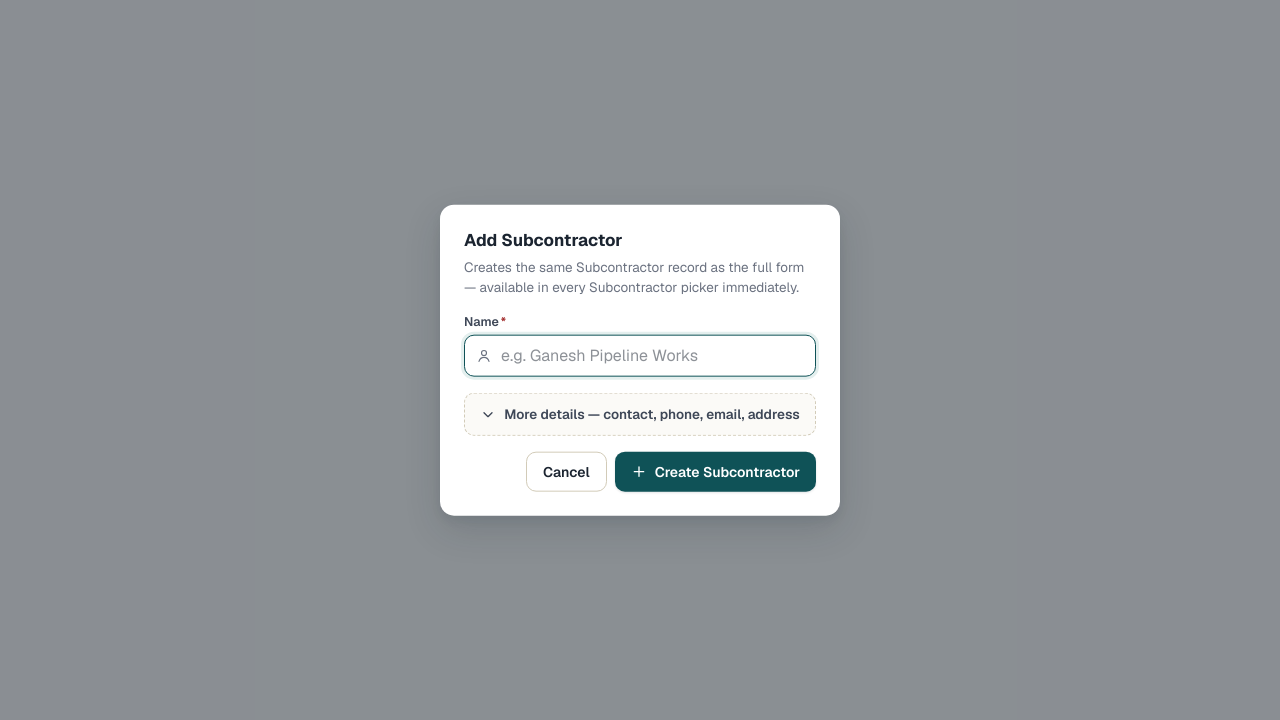
SubcontractorQuickCreateModal › surfaces a non-Owner/Admin 403 as the same formError the full form shows
The image size is (1280, 720).
Type "Ganesh Pipeline Works" into the field labelled "Name" at (640,356), box [464,335,816,377]
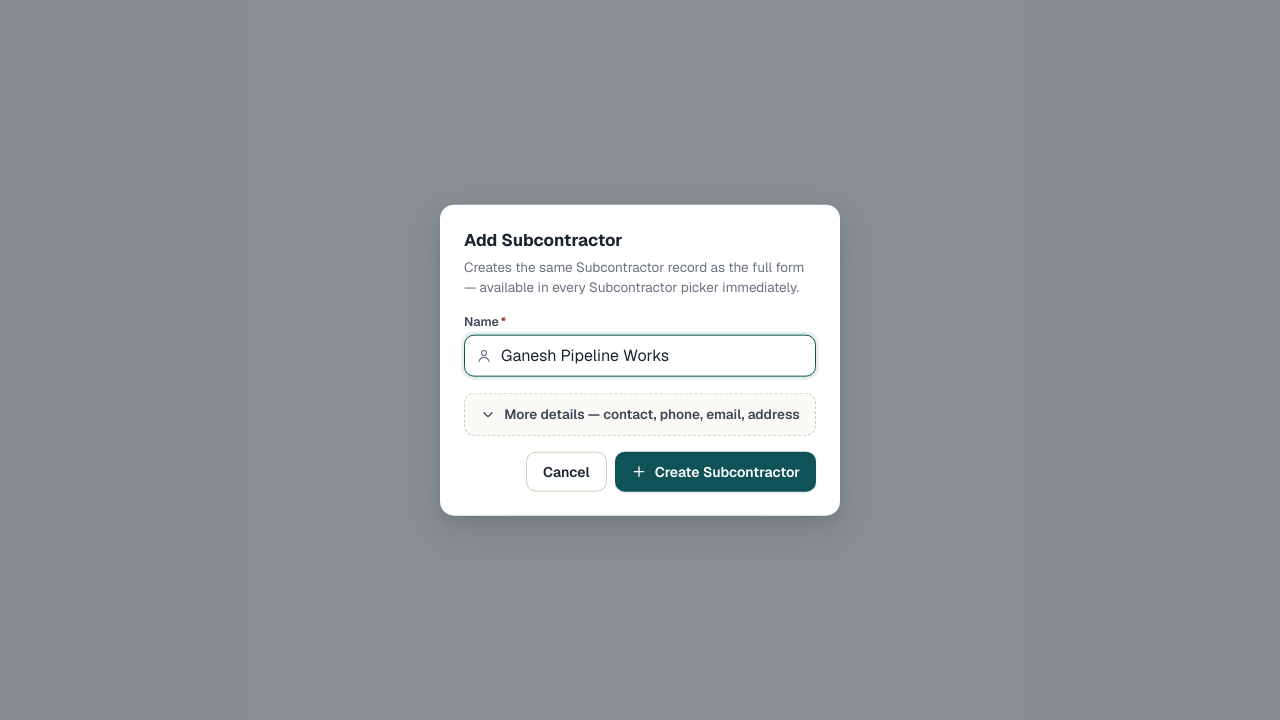
Click the button "Create Subcontractor" at (715,471), box [615,451,816,491]
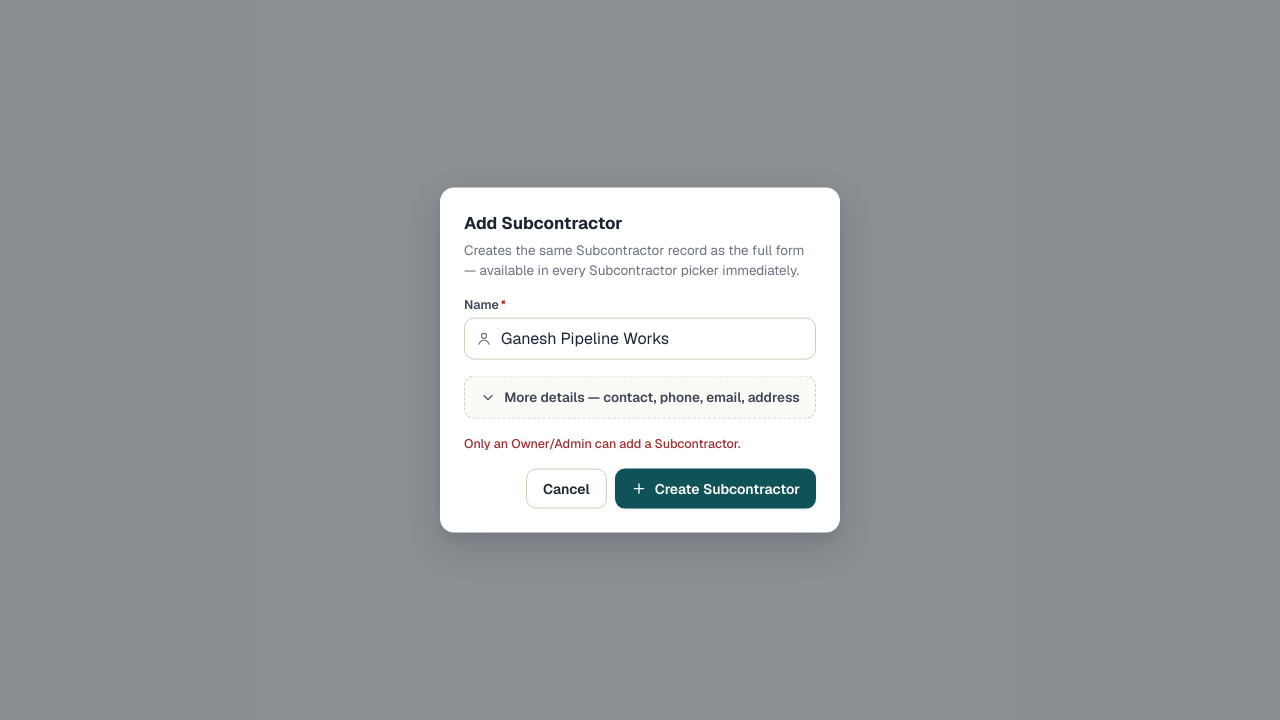
Check: the message reads "Only an Owner/Admin can add a Subcontractor.", box [464,434,741,451]
